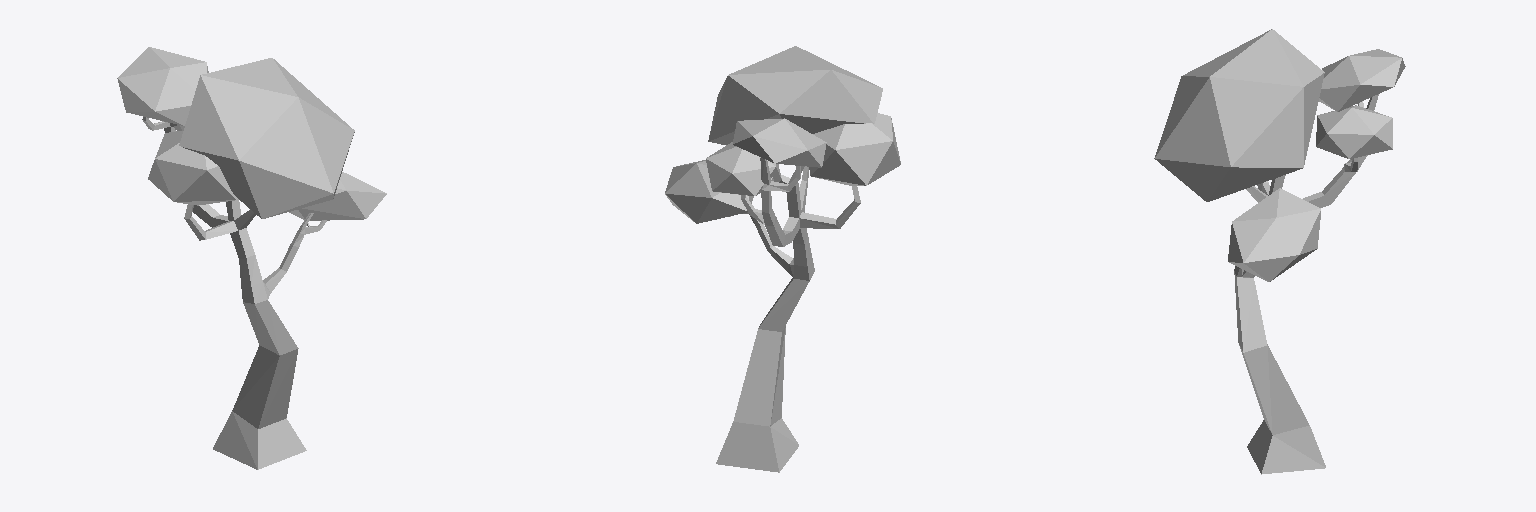
The model's file is arbol_5.obj.
The picture shows the model from 3 angles: view 1: azimuth 30°, elevation 25°; view 2: azimuth 150°, elevation 25°; view 3: azimuth 270°, elevation 25°; orthographic projection.
Visible parts, largest first — view 1: bonsaiFBXASC0322; view 2: bonsaiFBXASC0322; view 3: bonsaiFBXASC0322.
Part boxes in pixels (x1,y1,x2,y2): bonsaiFBXASC0322: (117, 47, 386, 469); bonsaiFBXASC0322: (665, 46, 900, 472); bonsaiFBXASC0322: (1154, 29, 1405, 474).
Bounding box in the file's own units: 3.12 × 5.22 × 3.